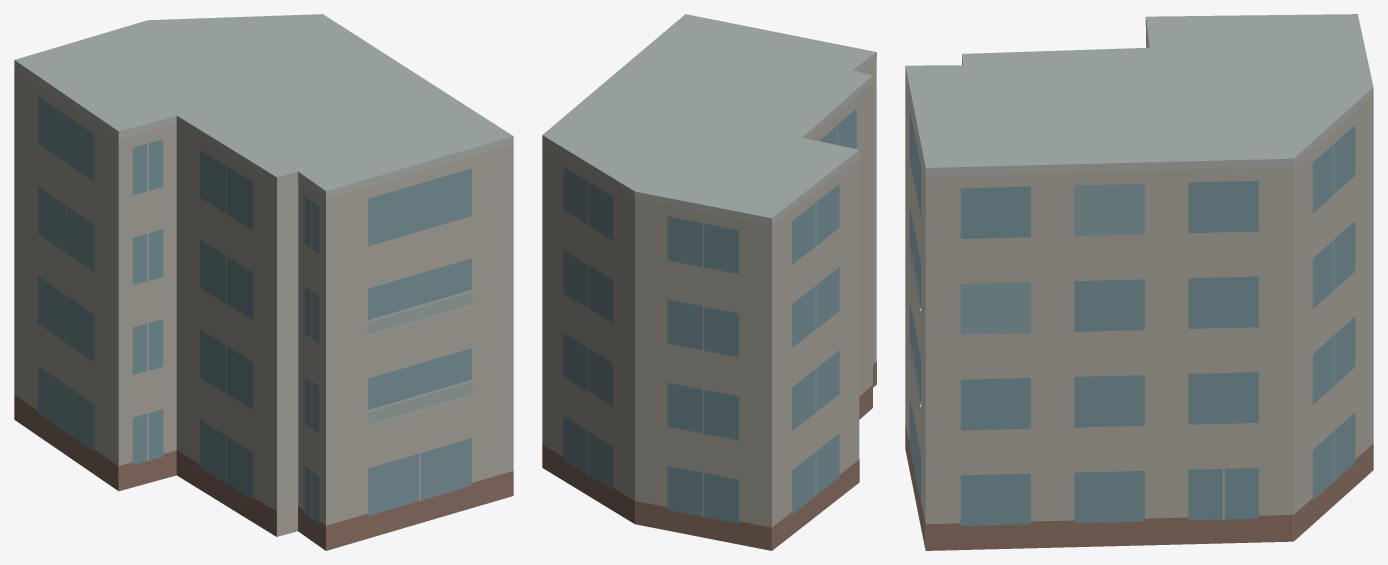
The model's file is survey-upis-32736406.glb.
3 renders of one model, left to right at view 1: azimuth 30°, elevation 25°; view 2: azimuth 150°, elevation 25°; view 3: azimuth 270°, elevation 25°, orthographic. The views are drawn at different scales.
Parts seen in each view (by area): view 1: survey-upis-32736406.tmp; view 2: survey-upis-32736406.tmp; view 3: survey-upis-32736406.tmp.
Part boxes in pixels (box(x1,y1,x2,y2)): survey-upis-32736406.tmp: box(14, 14, 513, 550); survey-upis-32736406.tmp: box(542, 14, 876, 550); survey-upis-32736406.tmp: box(905, 14, 1373, 550).
Bounding box in the file's own units: 9.75 × 11.3 × 12.53.
